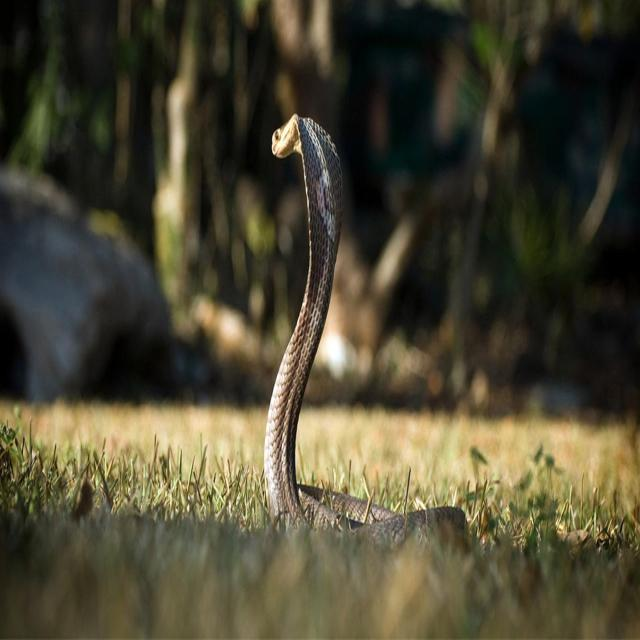Snake: (262, 110, 468, 550)
